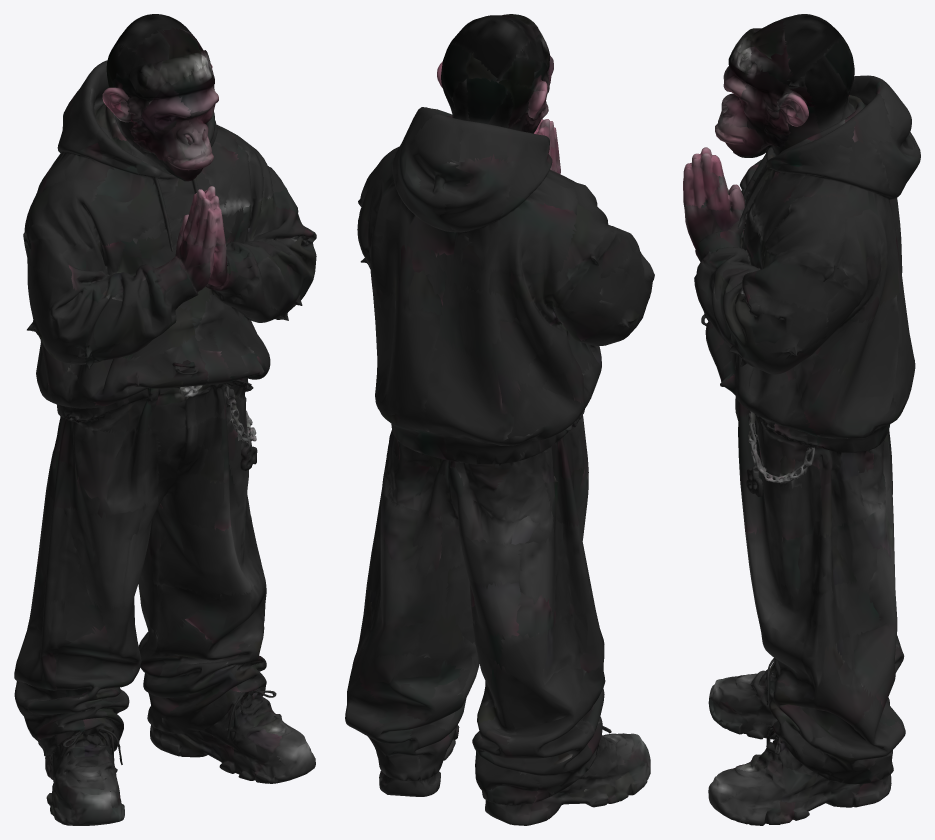
Rendered from mono-cuerpo-completo.glb.
3 renders of one model, left to right at view 1: azimuth 30°, elevation 25°; view 2: azimuth 150°, elevation 25°; view 3: azimuth 270°, elevation 25°, orthographic.
Visible parts, largest first — view 1: Mesh_0; view 2: Mesh_0; view 3: Mesh_0.
Boxes of the visible parts, bbox=[...] form: Mesh_0: bbox=[14, 14, 316, 825]; Mesh_0: bbox=[345, 14, 654, 825]; Mesh_0: bbox=[683, 14, 920, 825].
Size of the model in its own units: 0.7007 by 1.9 by 0.5446.
1 material, 1 textured.
